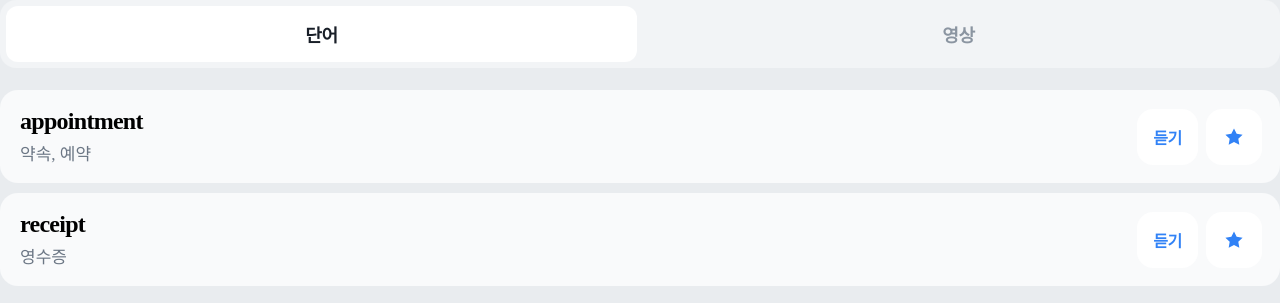
즐겨찾기 화면 › ★ 를 누르면 목록에서 바로 사라진다
Check: the text "receipt" is shown, box [20, 211, 85, 238]
Click the button named "receipt 즐겨찾기 해제" at (1234, 240), box [1206, 212, 1262, 268]
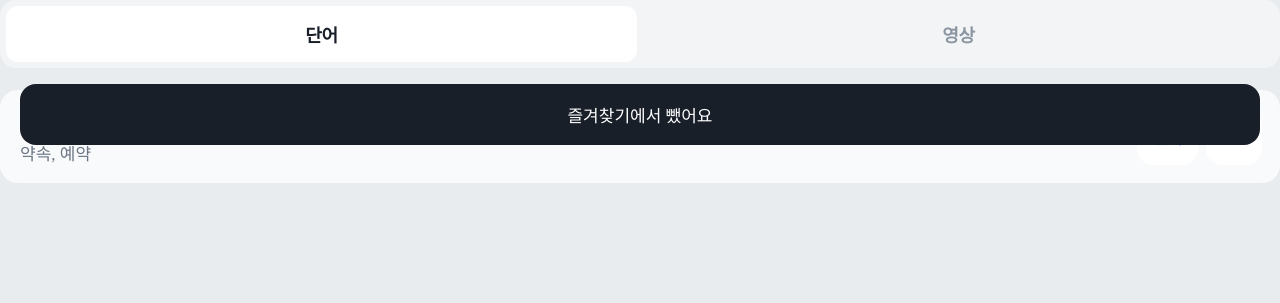
Check: the text "appointment" is shown, box [20, 108, 143, 135]
Check: the text "receipt" is gone
